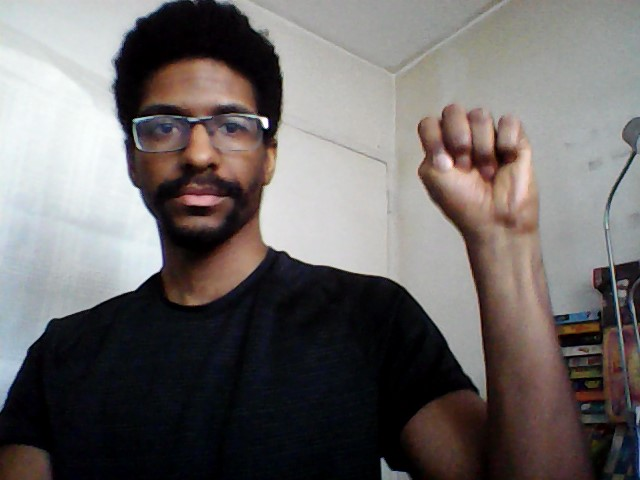m: (416, 100, 547, 234)
